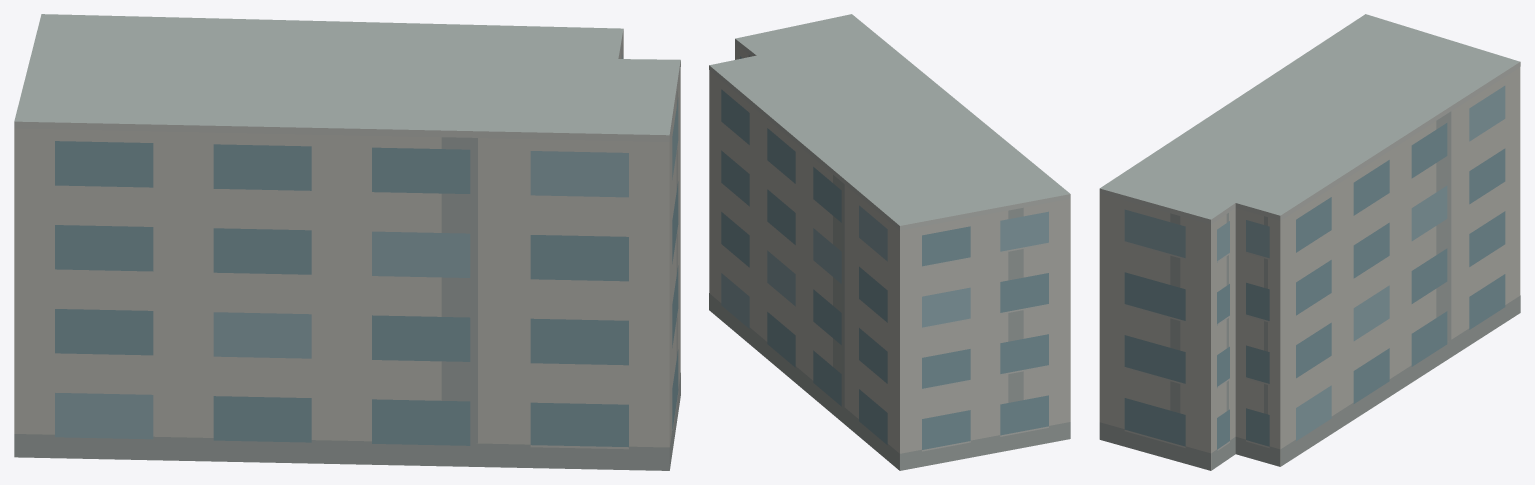
File: residential-699161ac-6cdc-435d-af33-c548f5ecc4da.glb
The picture shows the model from 3 angles, left to right: view 1: azimuth 30°, elevation 25°; view 2: azimuth 150°, elevation 25°; view 3: azimuth 270°, elevation 25°; orthographic projection. The views are drawn at different scales.
Visible parts, largest first — view 1: residential-699161ac-6cdc-435d-af33-c548f5ecc4da.tmp; view 2: residential-699161ac-6cdc-435d-af33-c548f5ecc4da.tmp; view 3: residential-699161ac-6cdc-435d-af33-c548f5ecc4da.tmp.
Boxes of the visible parts, x1,y1,x2,y2 form: residential-699161ac-6cdc-435d-af33-c548f5ecc4da.tmp: (14,14,680,470); residential-699161ac-6cdc-435d-af33-c548f5ecc4da.tmp: (709,14,1070,470); residential-699161ac-6cdc-435d-af33-c548f5ecc4da.tmp: (1099,14,1520,470).
Size of the model in its own units: 21.43 by 12.2 by 18.53.
